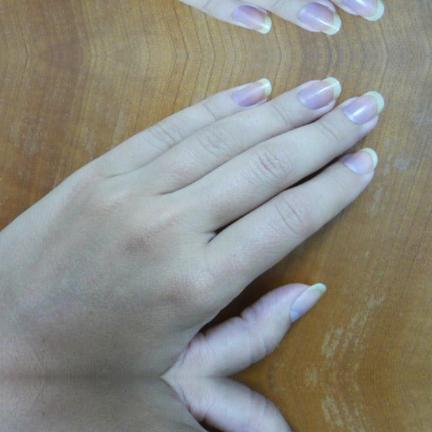Nail: (289, 283, 327, 323), (343, 90, 385, 124), (299, 76, 341, 109), (299, 1, 341, 34), (233, 77, 272, 107), (233, 3, 272, 33), (342, 147, 378, 174), (343, 0, 385, 20), (292, 431, 295, 432)
